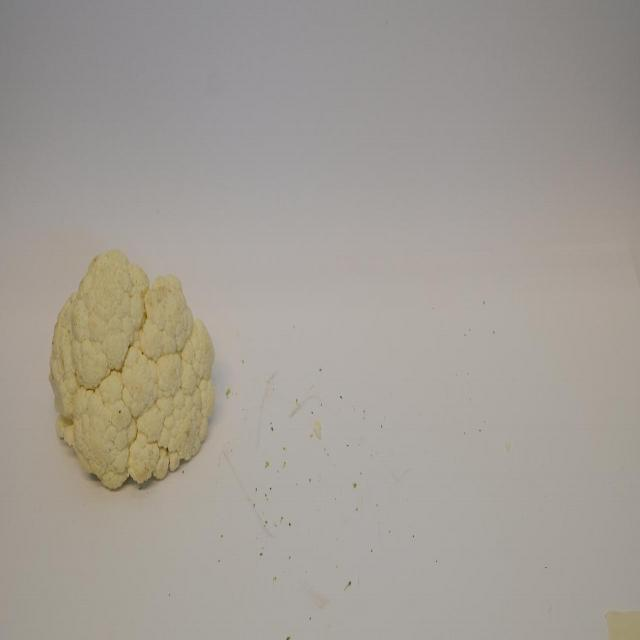cauliflower: (46, 242, 220, 489)
